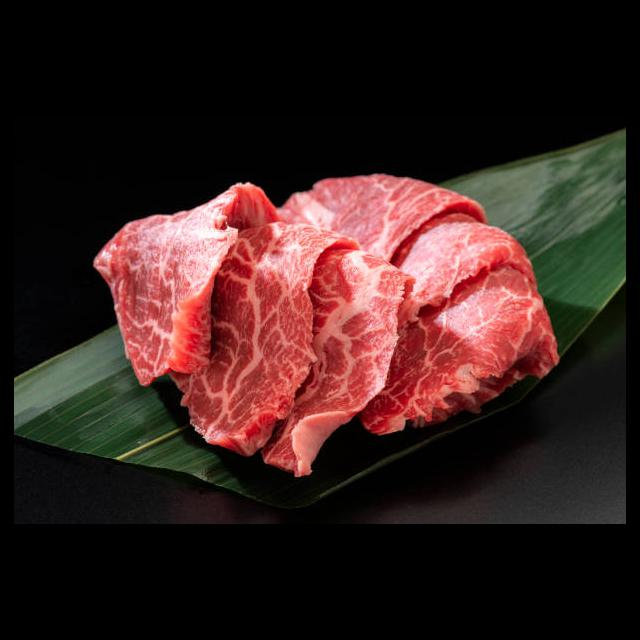beef: (93, 173, 558, 479)
